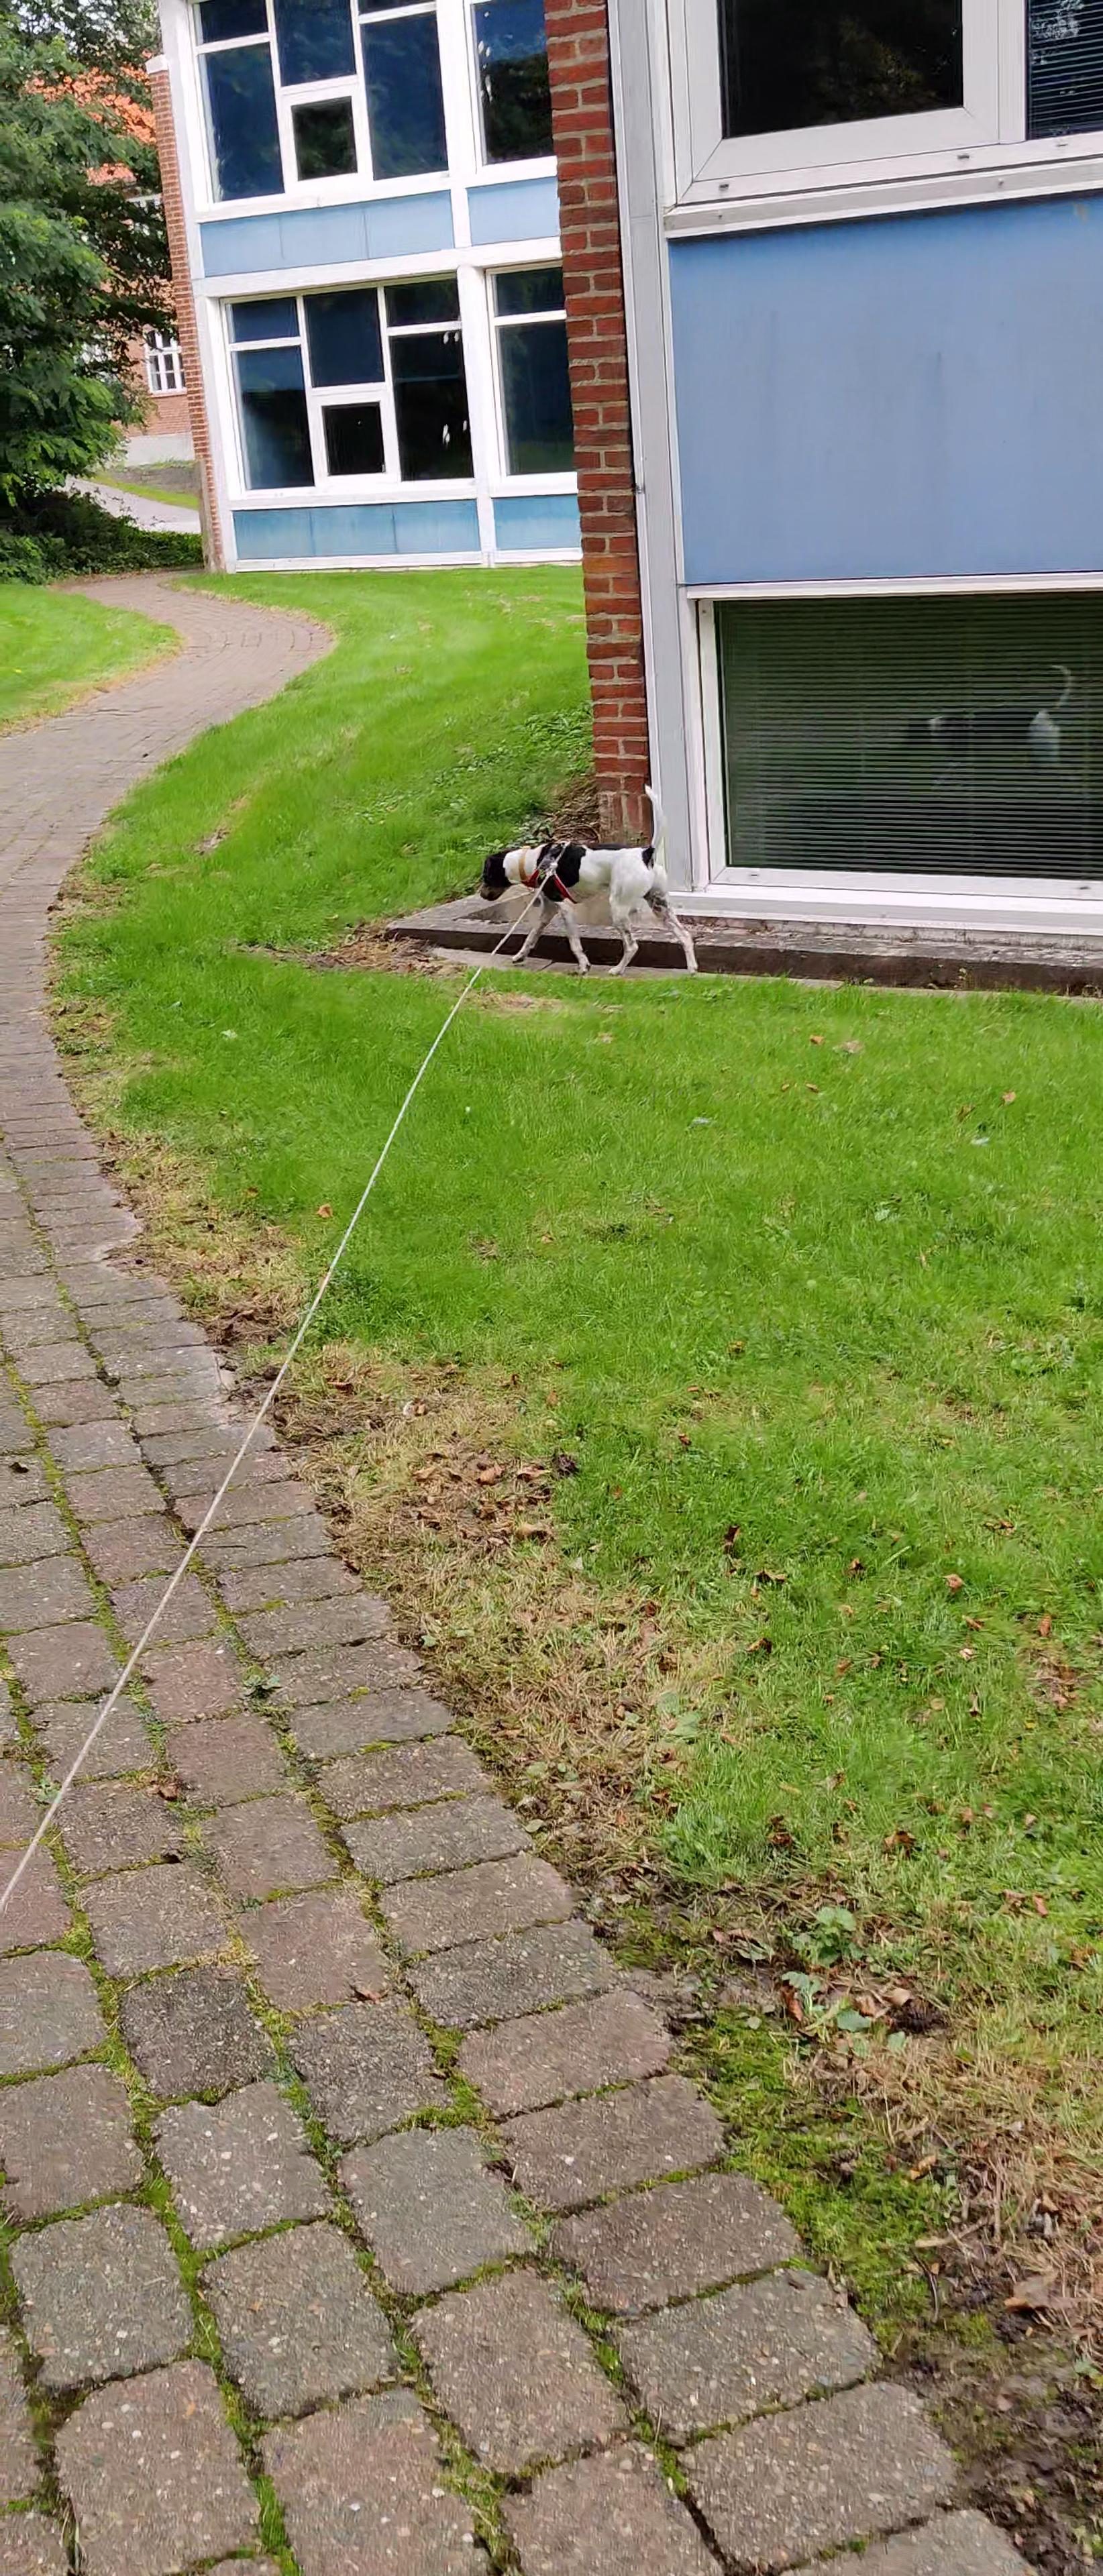Dog: (457, 762, 708, 992)
